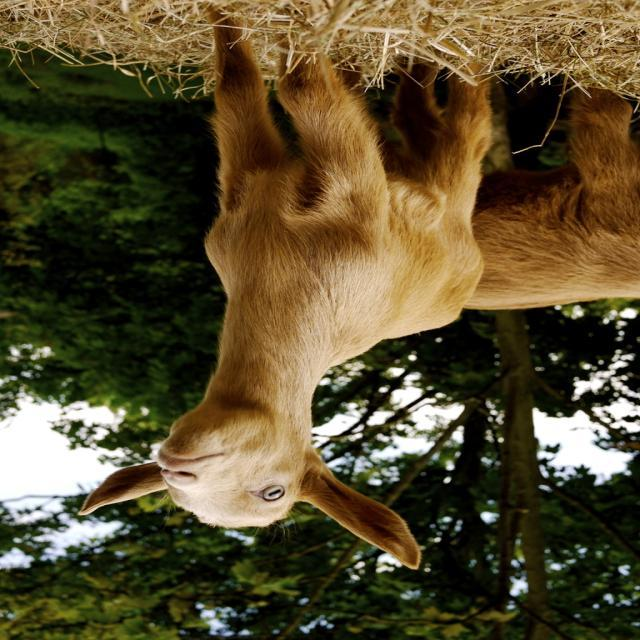Goat: (77, 8, 496, 571), (385, 66, 638, 313)
